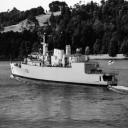Fragata: (10, 21, 120, 88)
